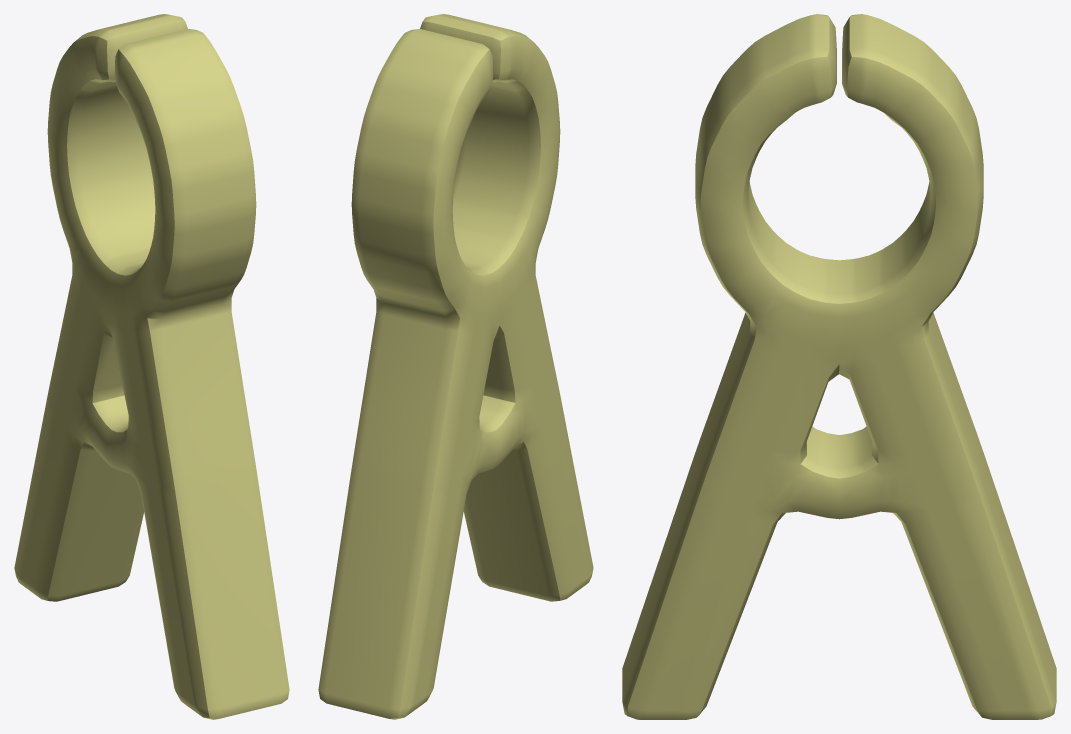
File: Eden_clothespin_3.fbx
3 renders of one model, left to right at view 1: azimuth 30°, elevation 25°; view 2: azimuth 150°, elevation 25°; view 3: azimuth 270°, elevation 25°, orthographic. The views are drawn at different scales.
Parts seen in each view (by area): view 1: pCylinder6; view 2: pCylinder6; view 3: pCylinder6.
Part boxes in pixels (x1,y1,x2,y2): pCylinder6: [14, 14, 289, 719]; pCylinder6: [318, 14, 593, 719]; pCylinder6: [622, 14, 1056, 719].
Bounding box in the file's own units: 0.000336 × 0.0022 × 0.00129.
